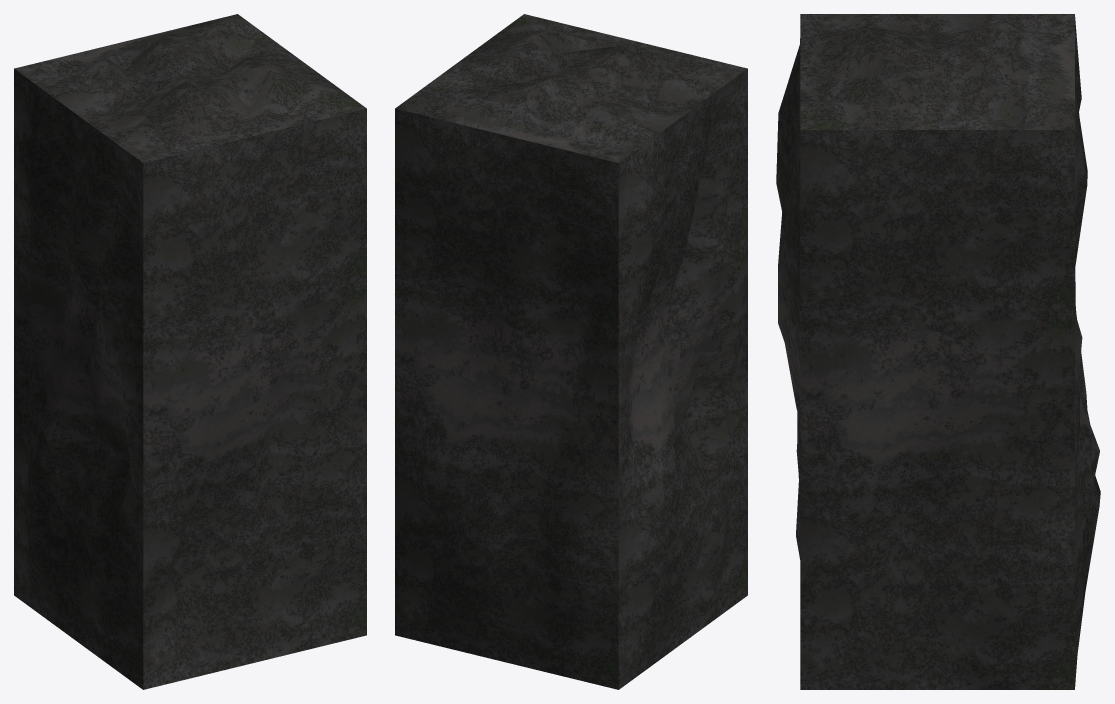
File: SM_cv_wall_tall.glb
The picture shows the model from 3 angles, left to right: view 1: azimuth 30°, elevation 25°; view 2: azimuth 150°, elevation 25°; view 3: azimuth 270°, elevation 25°; orthographic projection. The views are drawn at different scales.
Parts seen in each view (by area): view 1: SM_cv_wall_tall; view 2: SM_cv_wall_tall; view 3: SM_cv_wall_tall.
Part boxes in pixels (bbox=[...]): SM_cv_wall_tall: bbox=[14, 14, 366, 689]; SM_cv_wall_tall: bbox=[395, 14, 747, 689]; SM_cv_wall_tall: bbox=[776, 14, 1100, 689].
Bounding box in the file's own units: 4.66 × 9.45 × 4.73.
1 material, 1 textured.
